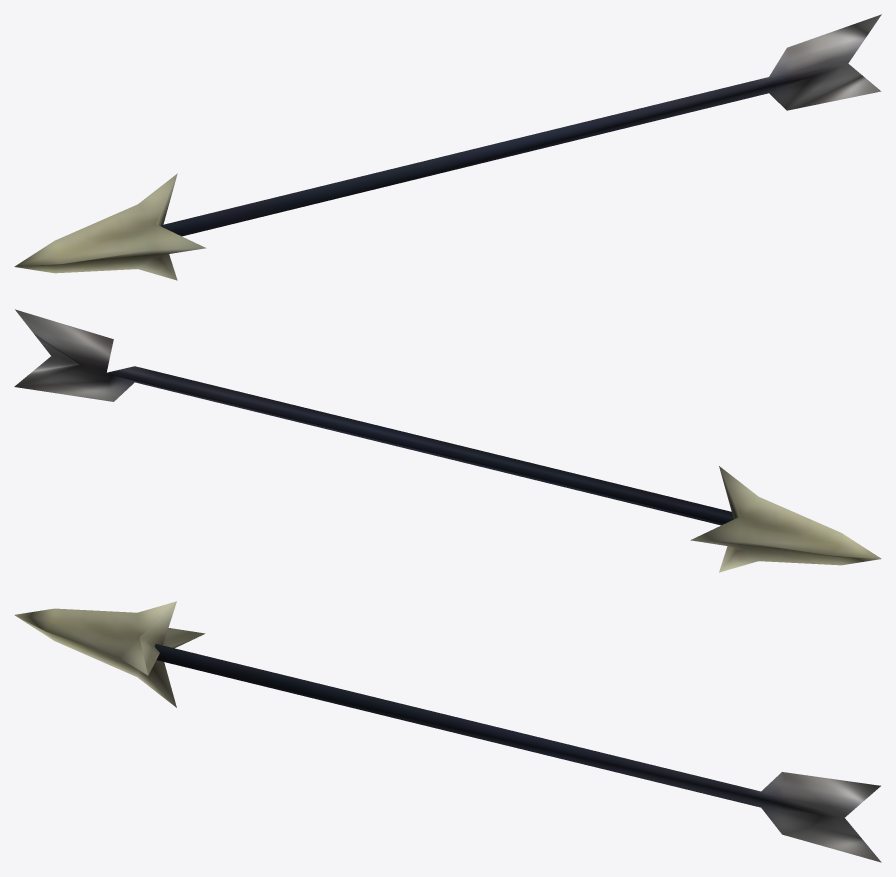
Rendered from slayerArrowR.glb.
The picture shows the model from 3 angles, top to bottom: view 1: azimuth 30°, elevation 25°; view 2: azimuth 150°, elevation 25°; view 3: azimuth 330°, elevation 25°; orthographic projection.
Parts seen in each view (by area): view 1: slayerArrowR; view 2: slayerArrowR; view 3: slayerArrowR.
Boxes of the visible parts, x1=… form: slayerArrowR: x1=14, y1=14, x2=881, y2=280; slayerArrowR: x1=14, y1=309, x2=881, y2=572; slayerArrowR: x1=14, y1=601, x2=881, y2=862.
Size of the model in its own units: 1.07 by 0.1265 by 0.1238.
1 material, 1 textured.
